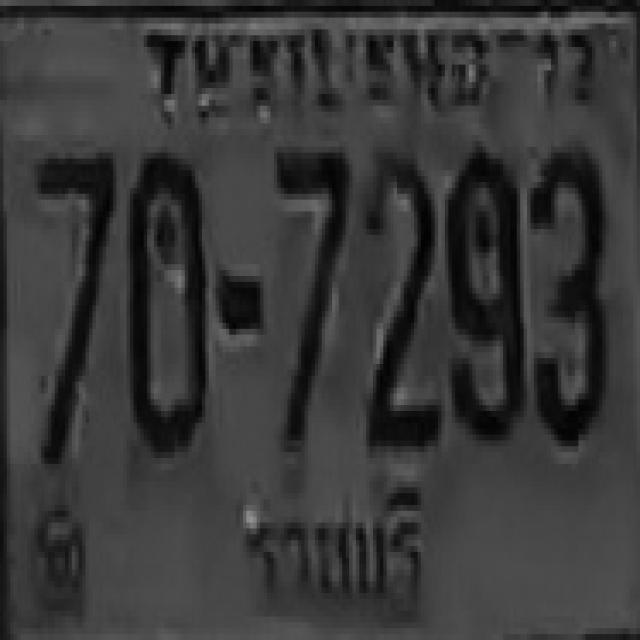0: (127, 147, 205, 452)
2: (362, 150, 434, 443)
3: (527, 144, 606, 437)
7: (34, 147, 113, 464), (274, 144, 346, 449)
9: (447, 147, 522, 434)
Ratchaburi: (230, 474, 430, 620)
